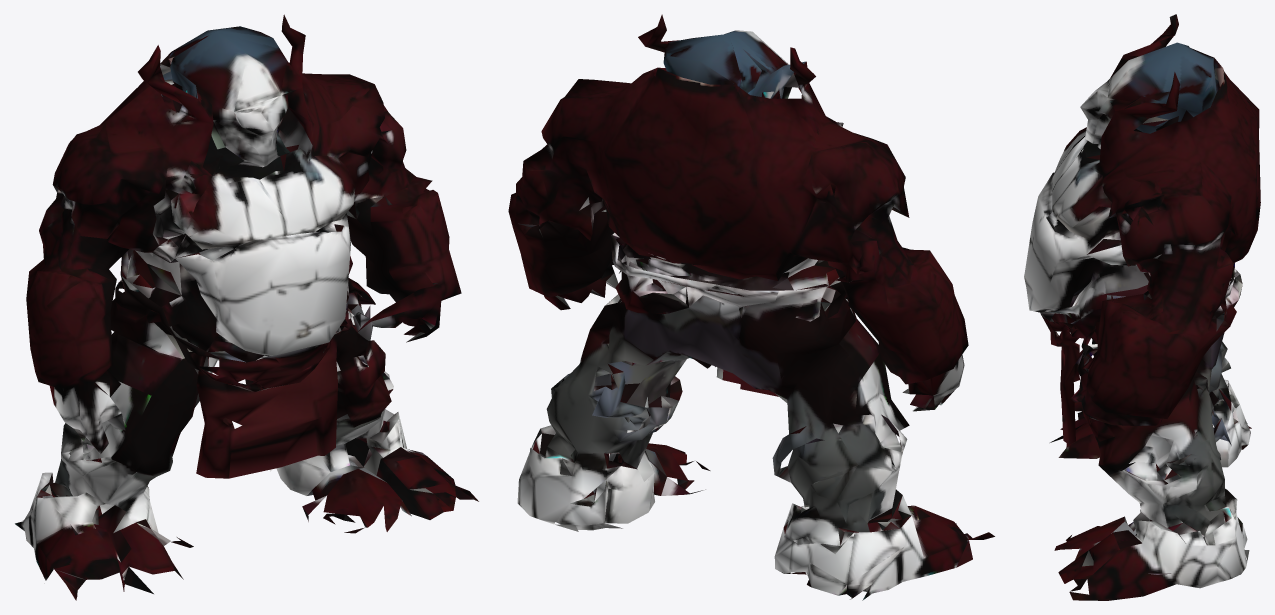
File: maul_fused_wretch.glb
The picture shows the model from 3 angles, left to right: view 1: azimuth 30°, elevation 25°; view 2: azimuth 150°, elevation 25°; view 3: azimuth 270°, elevation 25°; orthographic projection. The views are drawn at different scales.
Visible parts, largest first — view 1: LP_baked; view 2: LP_baked; view 3: LP_baked.
Part boxes in pixels (box(x1,y1,x2,y2)): LP_baked: box(15, 14, 478, 600); LP_baked: box(508, 14, 994, 600); LP_baked: box(1024, 14, 1260, 600).
Bounding box in the file's own units: 1.75 × 1.97 × 0.9083.
1 material, 1 textured.
